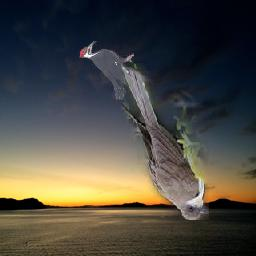Cuckoo: (121, 64, 209, 221)
Woodpecker: (78, 42, 134, 101)
